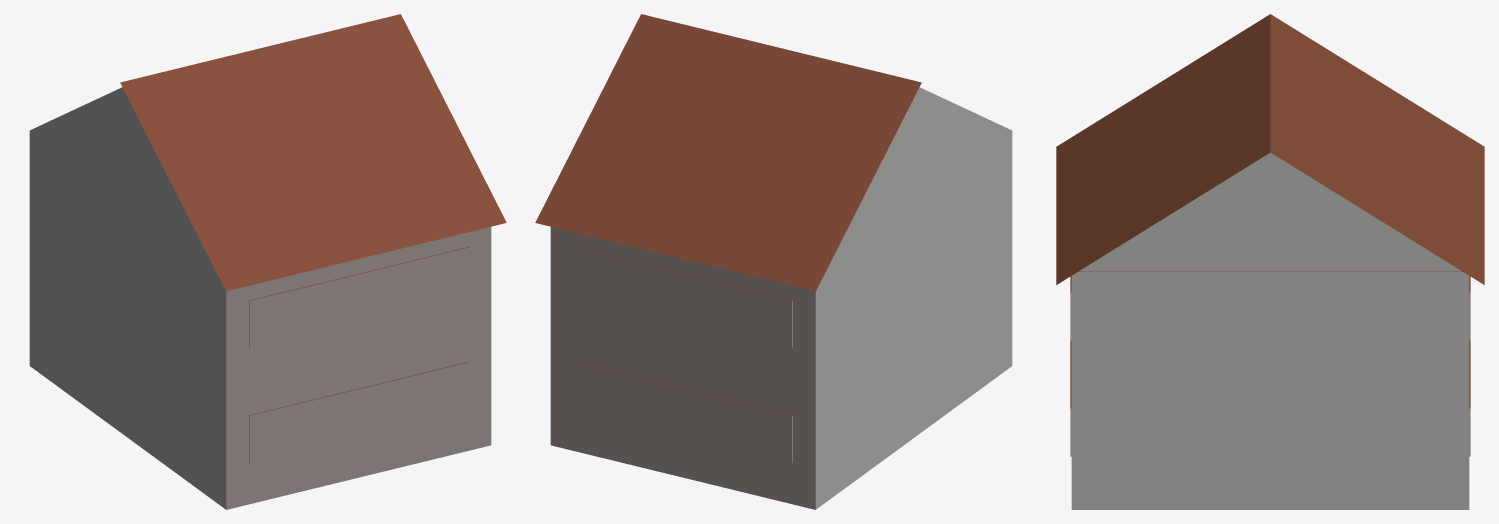
Rendered from cove-house-white.far-facades-v1.lod2.glb.
3 views of the same model, side by side, from view 1: azimuth 30°, elevation 25°; view 2: azimuth 150°, elevation 25°; view 3: azimuth 270°, elevation 25° (orthographic).
Visible parts, largest first — view 1: cove-house-white; view 2: cove-house-white; view 3: cove-house-white.
Boxes of the visible parts, x1=… form: cove-house-white: x1=29, y1=14, x2=506, y2=509; cove-house-white: x1=535, y1=14, x2=1012, y2=509; cove-house-white: x1=1056, y1=14, x2=1484, y2=509.
Bounding box in the file's own units: 7.42 × 9.03 × 9.7.
